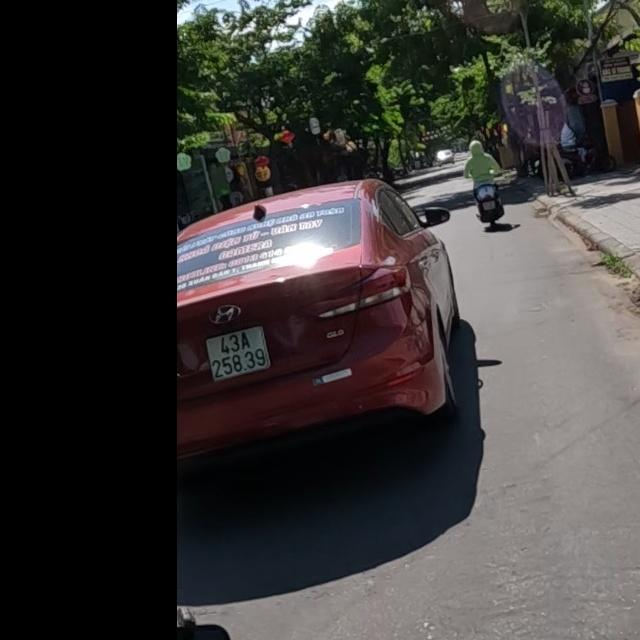license-plate: (203, 324, 271, 383)
